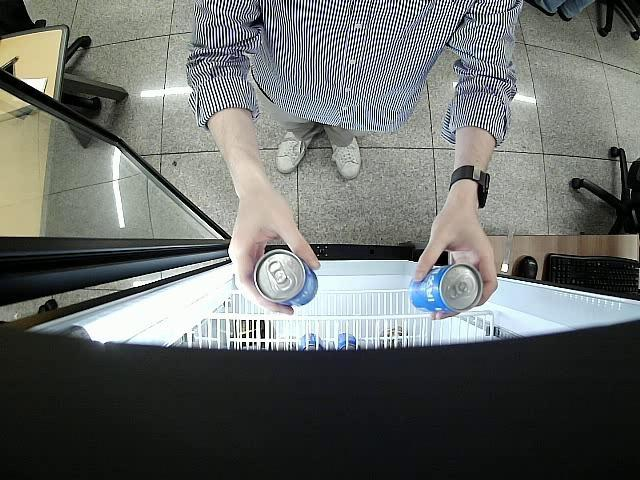15_letsbe: (255, 248, 317, 308), (411, 262, 482, 314)
